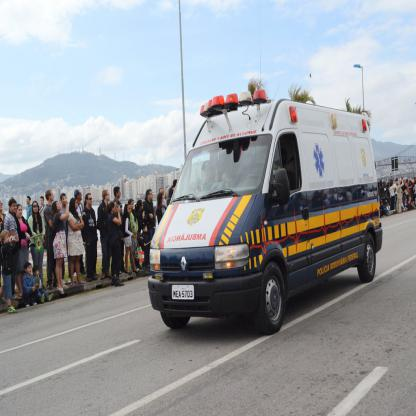Ambulance: (148, 82, 384, 336)
